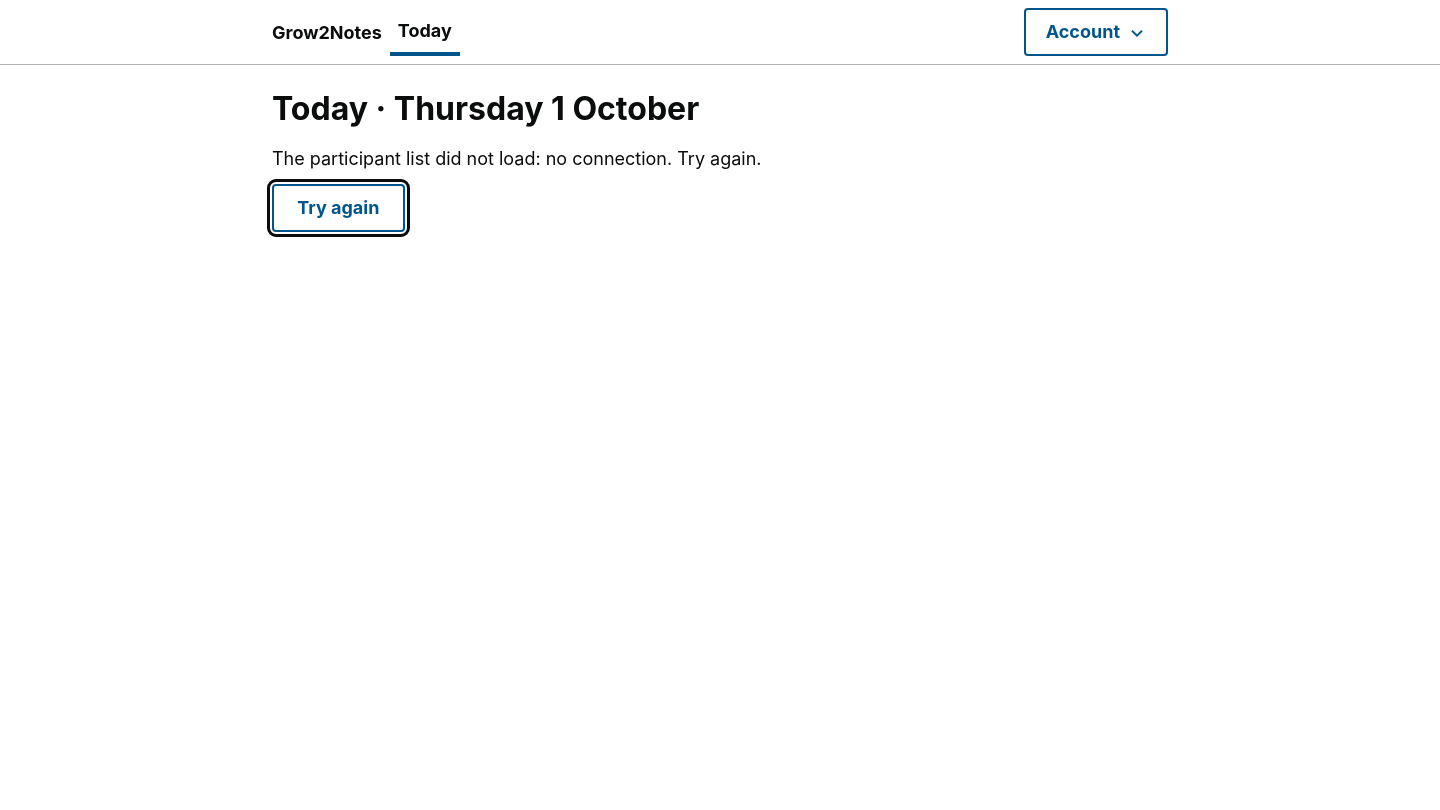
Test case: Today while the list loads › shows the rows after a Try again that loads, with focus on the <h1>
Click the button "Try again" at (338, 208), box [272, 184, 405, 232]
Wait 1 ms
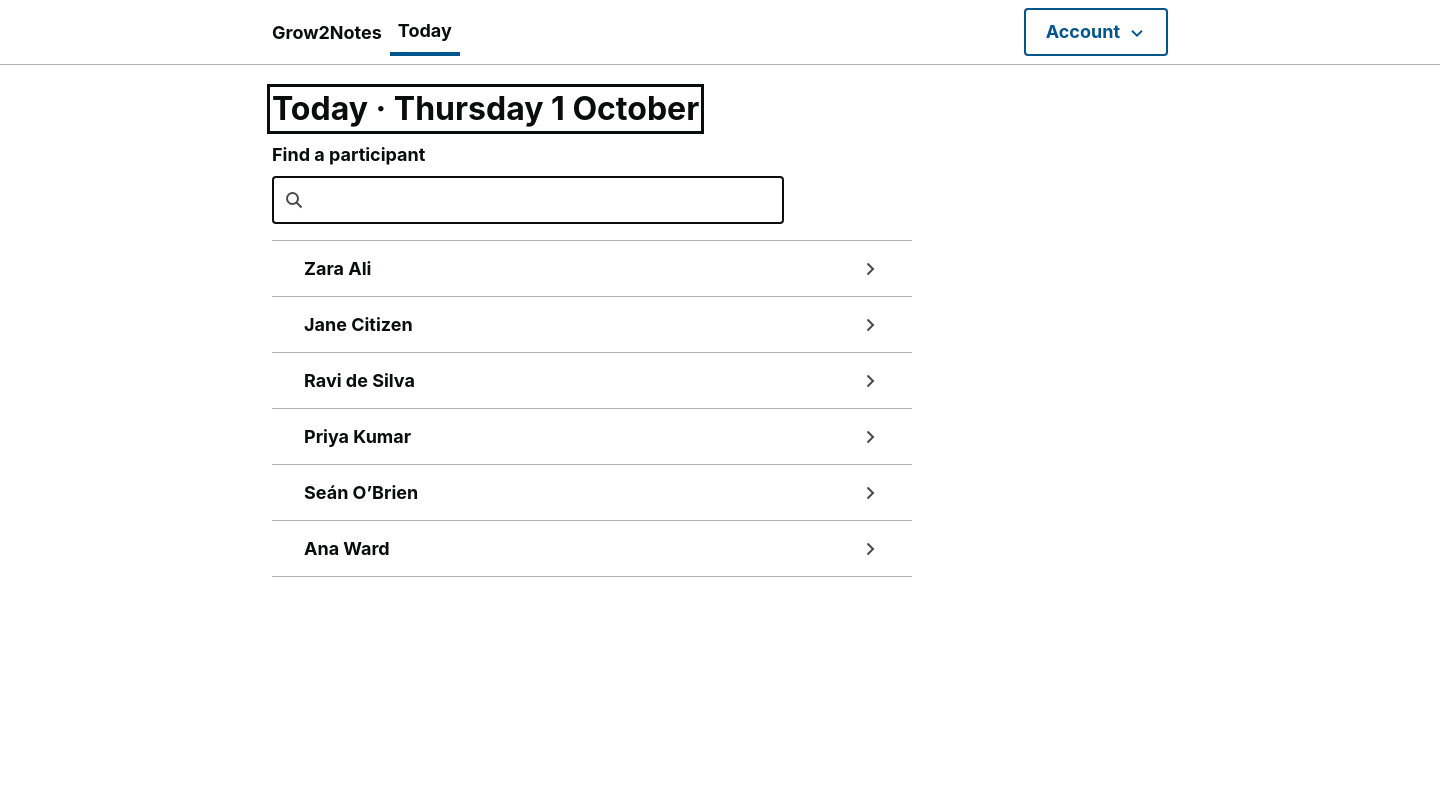
Now the list item "Zara Ali" is shown, box [272, 241, 912, 297]
Now the list item "Jane Citizen" is shown, box [272, 297, 912, 353]
Now the list item "Ravi de Silva" is shown, box [272, 353, 912, 409]
